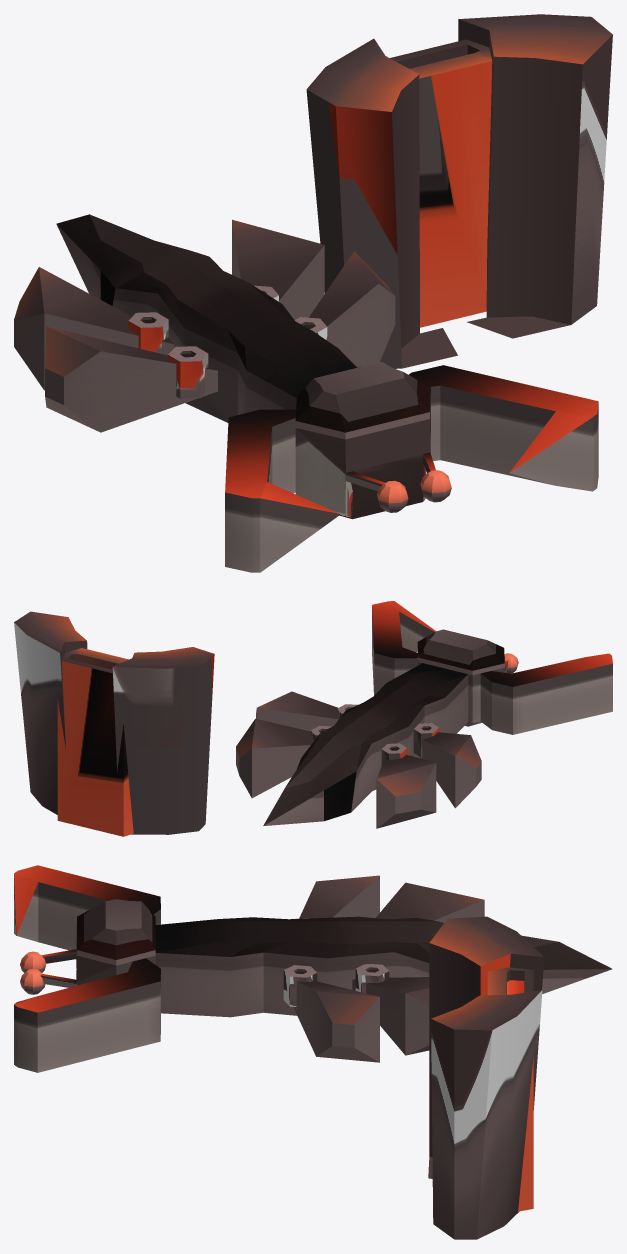
Rendered from shooter enemy.fbx.
3 views of the same model, one above another, from view 1: azimuth 30°, elevation 25°; view 2: azimuth 150°, elevation 25°; view 3: azimuth 270°, elevation 25° (orthographic). The views are drawn at different scales.
Visible parts, largest first — view 1: Cube, Cube.003, Cylinder.002, Sphere.004; view 2: Cube, Cube.003, Cylinder.002; view 3: Cube, Cube.003, Cylinder.002, Sphere.004.
Boxes of the visible parts, left/top/right/bottom form: Cube: left=14, top=214, right=598, bottom=572; Cube.003: left=306, top=14, right=612, bottom=368; Cylinder.002: left=128, top=285, right=327, bottom=398; Sphere.004: left=377, top=470, right=451, bottom=512; Cube: left=236, top=601, right=612, bottom=828; Cube.003: left=14, top=611, right=214, bottom=836; Cylinder.002: left=311, top=704, right=439, bottom=765; Cube: left=14, top=865, right=612, bottom=1072; Cube.003: left=428, top=916, right=544, bottom=1239; Cylinder.002: left=283, top=918, right=389, bottom=1006; Sphere.004: left=20, top=951, right=46, bottom=994.
Size of the model in its own units: 186 by 73.55 by 184.
